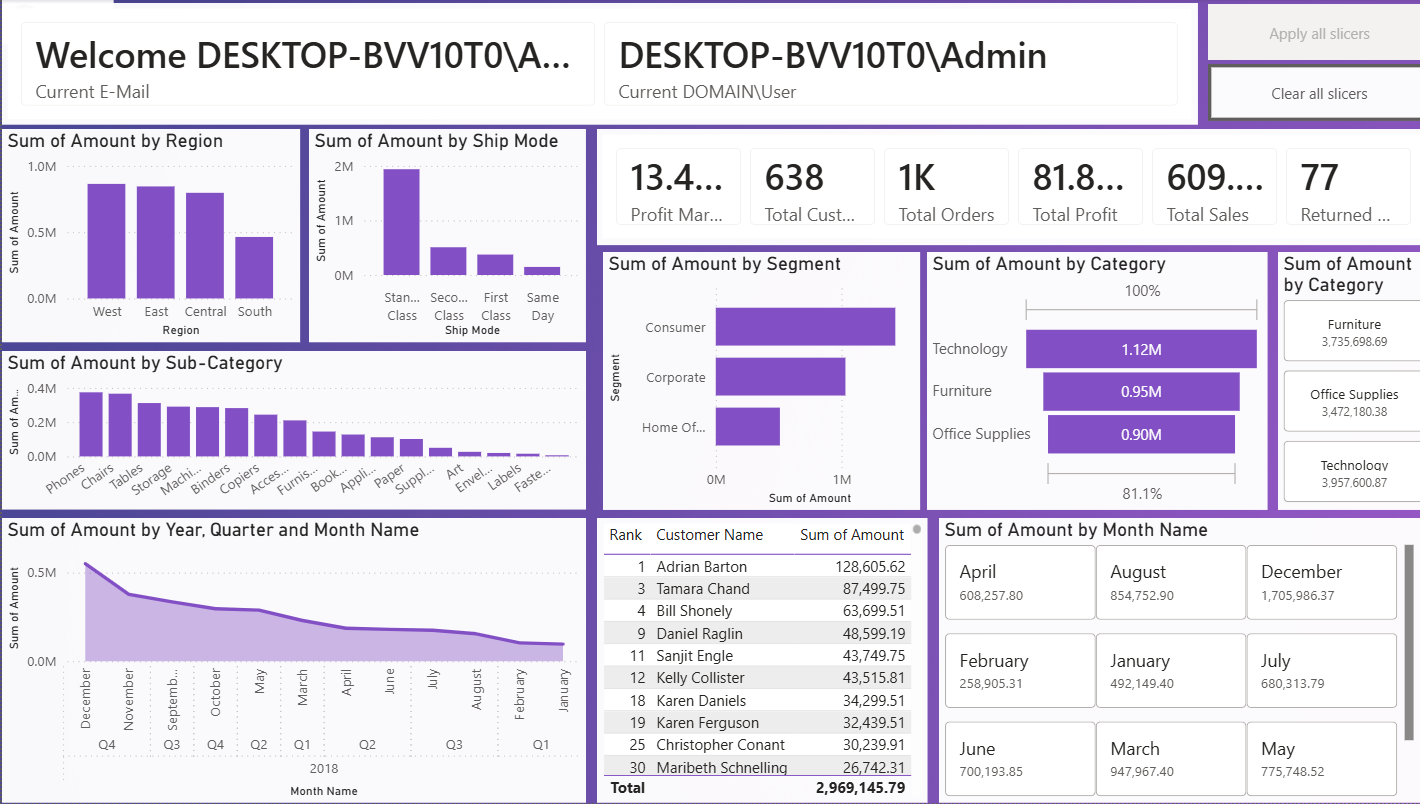

This screenshot's page, from the dashboard's own definition file:
{"tool":"powerbi","page":{"name":"Page 1","canvas":[1280,720],"ordinal":0},"visuals":[{"type":"cardVisual","fields":{"Data":["Orders.Profit Margin %","Orders.Total Customers","Orders.Total Orders","Orders.Total Profit","Orders.Total Sales","Returns.Returned Orders"]},"box":[532.8,116.4,746.9,103.9],"z":0},{"type":"barChart","fields":{"Y":["Sum(Orders.Amount)"],"Category":["Orders.Segment"]},"box":[538.2,226.6,283.9,231],"z":1000},{"type":"funnel","fields":{"Category":["Orders.Category"],"Y":["Sum(Orders.Amount)"]},"box":[828.4,226.6,305.4,231],"z":2000},{"type":"clusteredColumnChart","fields":{"Category":["Orders.Ship Mode"],"Y":["Sum(Orders.Amount)"]},"box":[274.9,116.4,248.1,190.7],"z":3000},{"type":"clusteredColumnChart","fields":{"Y":["Sum(Orders.Amount)"],"Category":["Orders.Region"]},"box":[0,116.4,266.9,190.7],"z":4000},{"type":"clusteredColumnChart","fields":{"Y":["Sum(Orders.Amount)"],"Category":["Orders.Sub-Category"]},"box":[0,315.2,523,142.4],"z":5000},{"type":"areaChart","fields":{"Category":["Date Table.Year Hierarchy.Year","Date Table.Year Hierarchy.Quarter","Date Table.Year Hierarchy.Month Name","Date Table.Year Hierarchy.Day Name"],"Y":["Sum(Orders.Amount)"]},"box":[0,464.8,523,255.2],"z":6000},{"type":"tableEx","fields":{"Values":["Orders.Rank","Orders.Customer Name","Sum(Orders.Amount)"]},"box":[532.8,464.8,295.5,255.2],"z":7000},{"type":"actionButton","box":[1080,4.5,199.7,50.1],"z":9000},{"type":"actionButton","box":[1080,58.2,199.7,51],"z":10000},{"type":"advancedSlicerVisual","fields":{"Label":["Sum(Orders.Amount)"],"Values":["Date Table.Month Name"]},"box":[839.1,464.8,430.7,255.2],"z":11000},{"type":"actionButton","box":[0,0,100,40],"z":12000},{"type":"advancedSlicerVisual","fields":{"Values":["Orders.Category"],"Label":["Sum(Orders.Amount)"]},"box":[1142.7,226.6,137,231],"z":13000},{"type":"cardVisual","fields":{"Data":["People.Current E-Mail","People.Current DOMAIN\\User"]},"box":[0,3.6,1071,109.3],"z":14000}]}

Visuals, with their boxes in screenshot pixels (x1, y1, x2, y2), scaled from the page's 1280x720 canvas onto the 1420x804 screenshot:
cardVisual - Orders.Profit Margin % x Orders.Total Customers: x1=591, y1=130, x2=1419, y2=246
barChart - Sum(Orders.Amount) x Orders.Segment: x1=597, y1=253, x2=912, y2=511
funnel - Orders.Category x Sum(Orders.Amount): x1=919, y1=253, x2=1258, y2=511
clusteredColumnChart - Orders.Ship Mode x Sum(Orders.Amount): x1=305, y1=130, x2=580, y2=343
clusteredColumnChart - Sum(Orders.Amount) x Orders.Region: x1=0, y1=130, x2=296, y2=343
clusteredColumnChart - Sum(Orders.Amount) x Orders.Sub-Category: x1=0, y1=352, x2=580, y2=511
areaChart - Date Table.Year Hierarchy.Year x Date Table.Year Hierarchy.Quarter: x1=0, y1=519, x2=580, y2=803
tableEx - Orders.Rank x Orders.Customer Name: x1=591, y1=519, x2=919, y2=803
actionButton: x1=1198, y1=5, x2=1419, y2=61
actionButton: x1=1198, y1=65, x2=1419, y2=122
advancedSlicerVisual - Sum(Orders.Amount) x Date Table.Month Name: x1=931, y1=519, x2=1409, y2=803
actionButton: x1=0, y1=0, x2=111, y2=45
advancedSlicerVisual - Orders.Category x Sum(Orders.Amount): x1=1268, y1=253, x2=1419, y2=511
cardVisual - People.Current E-Mail x People.Current DOMAIN\User: x1=0, y1=4, x2=1188, y2=126
